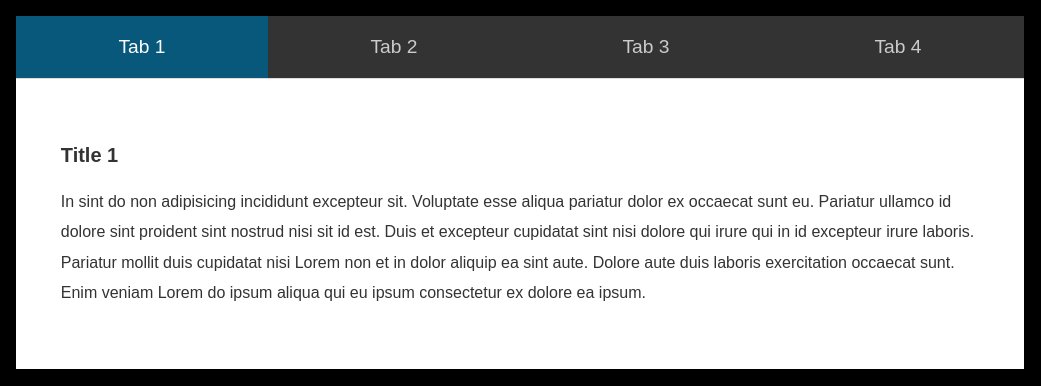
it: renders third tab and changes content on click
Click on the third tab
Click the button "Tab 3" at (646, 47), box top-left (520, 16), bottom-right (772, 78)
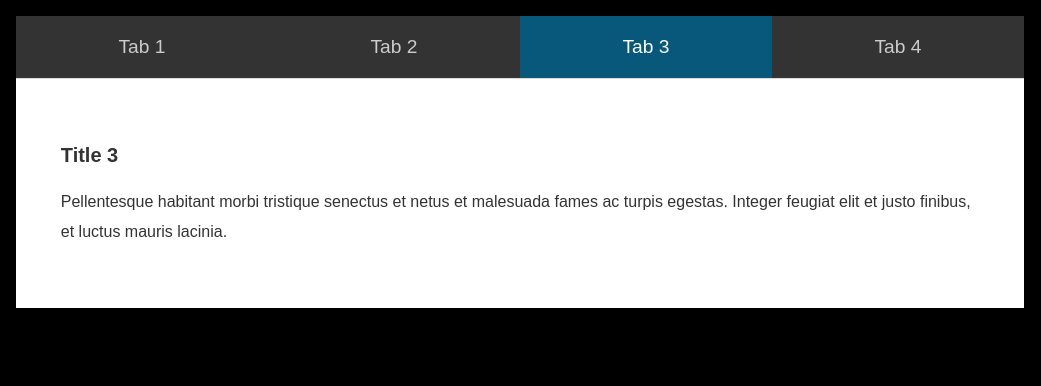
Expected: the text "Pellentesque habitant morbi tristique senectus et netus et malesuada fames ac turpis egestas" is shown, top-left (61, 193), bottom-right (971, 240)
